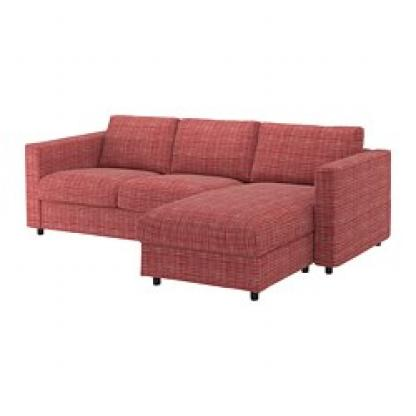Sofa: (17, 91, 396, 313)
